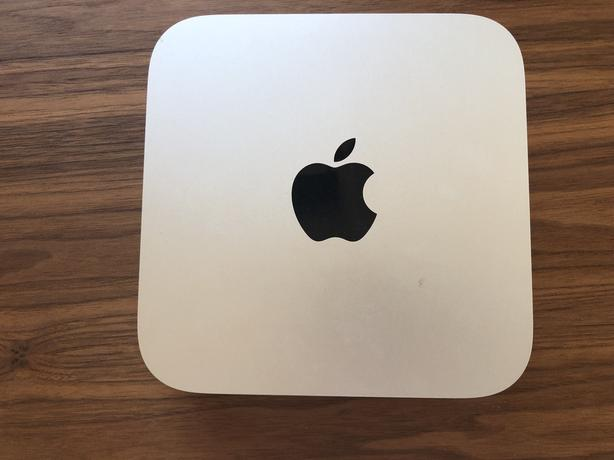apple: (281, 116, 424, 271)
